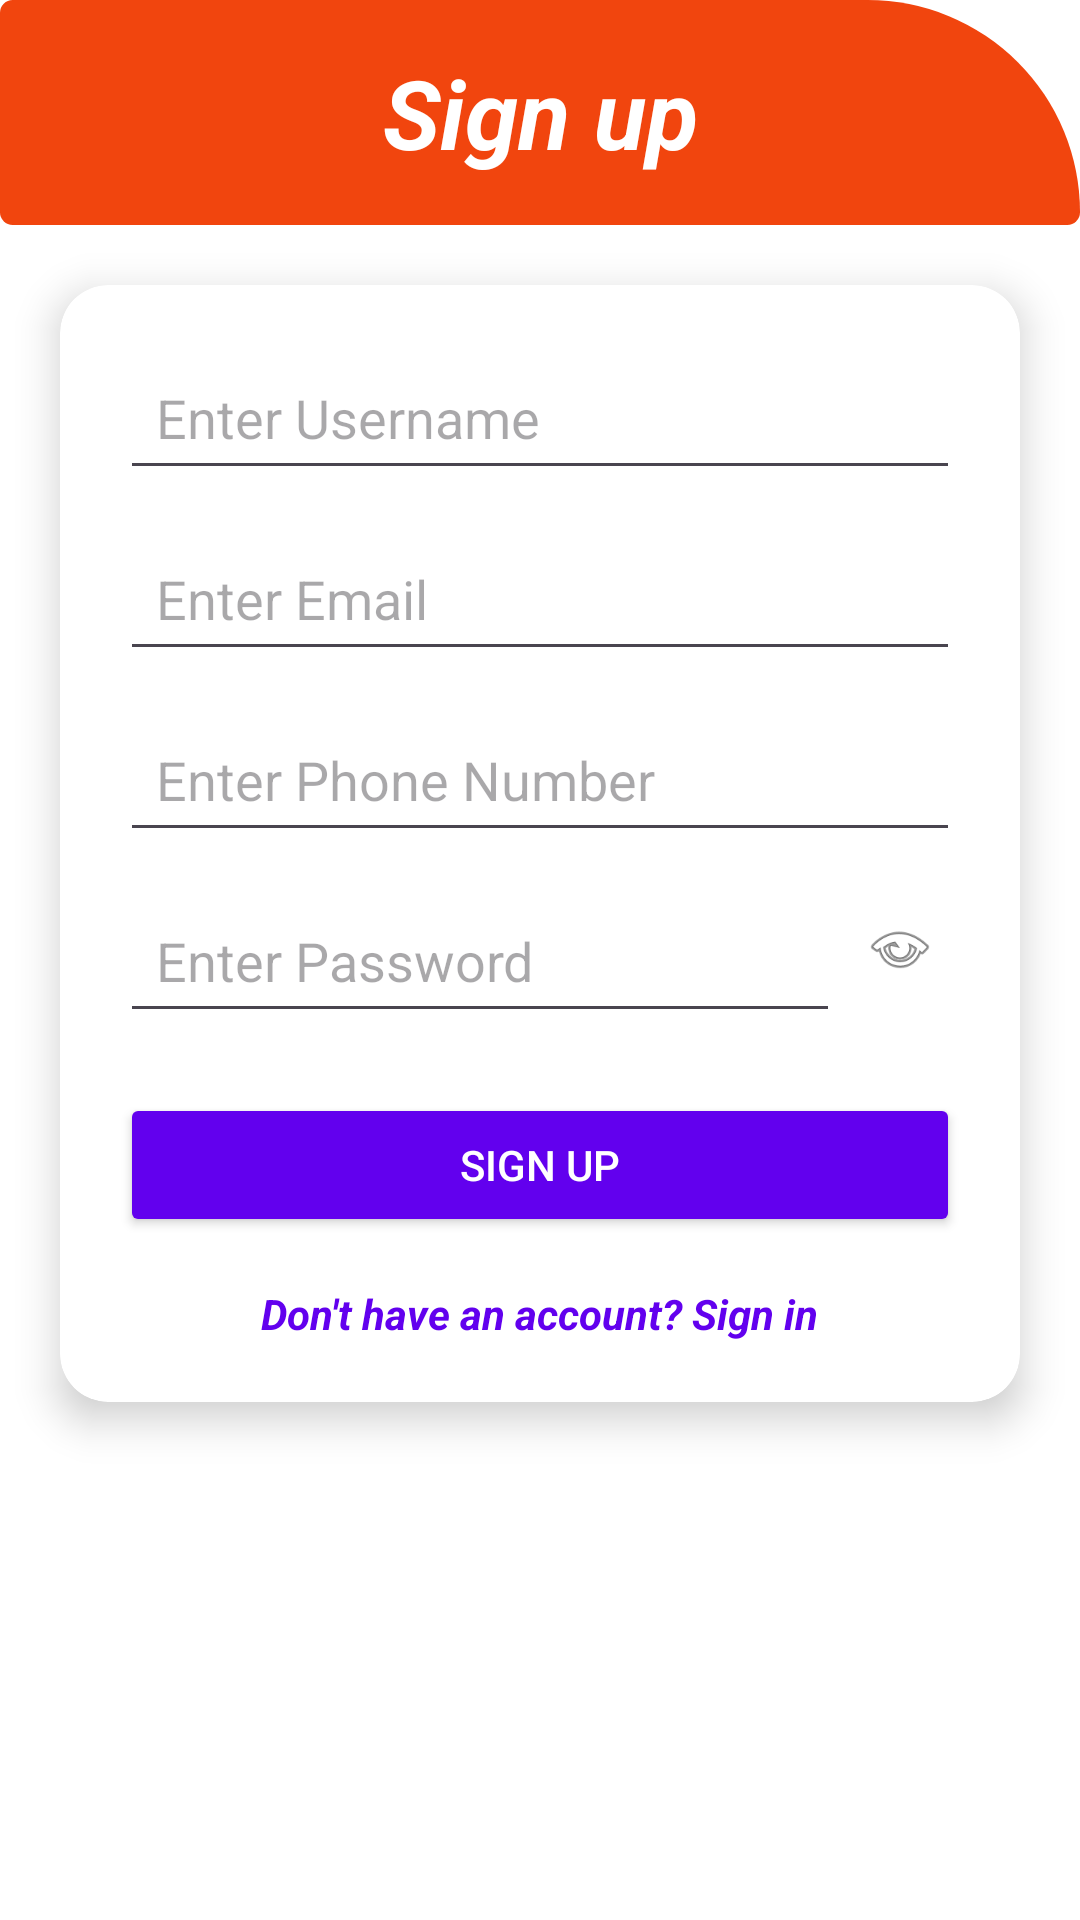

Screen size 1080px x 1920px. Icon name, then its box in pixels as (x1=x1, y1=y1, x2=x2, y2=y2):
Show Password: (x1=871, y1=931, x2=929, y2=968)
